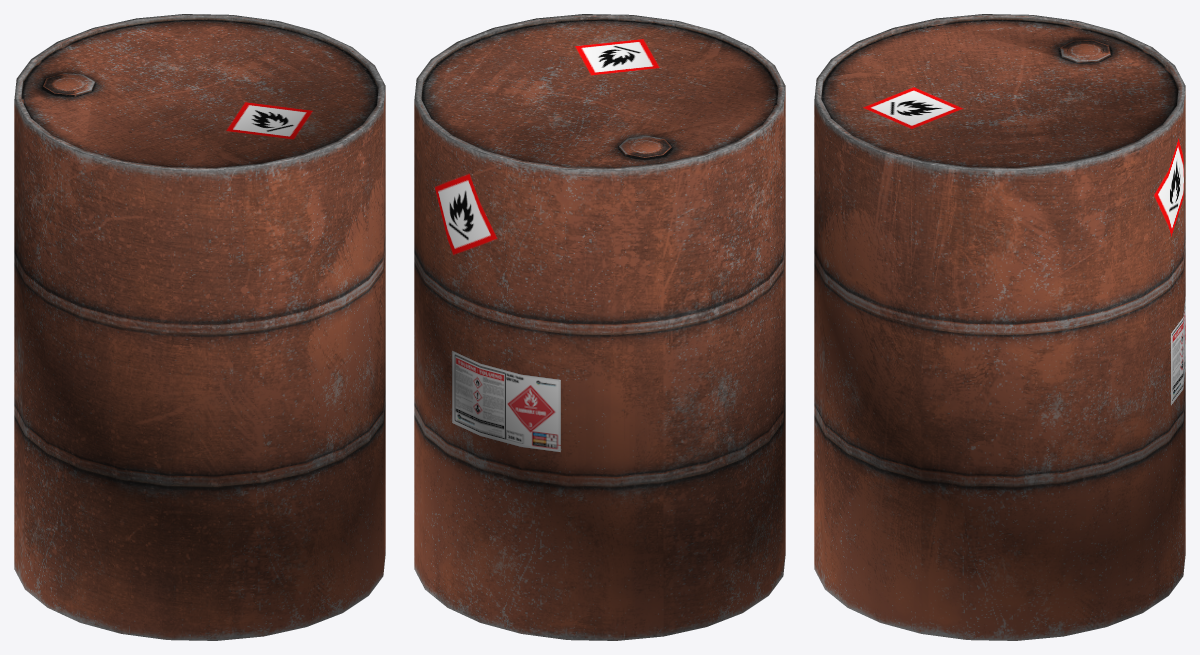
Rendered from barelOrange.fbx.
3 renders of one model, left to right at view 1: azimuth 30°, elevation 25°; view 2: azimuth 150°, elevation 25°; view 3: azimuth 270°, elevation 25°, orthographic.
Visible parts, largest first — view 1: Barrel04_0; view 2: Barrel04_0; view 3: Barrel04_0.
Part boxes in pixels (x1,y1,x2,y2): Barrel04_0: (14,14,385,640); Barrel04_0: (414,14,785,640); Barrel04_0: (814,14,1185,640).
Bounding box in the file's own units: 220 × 307 × 220.
